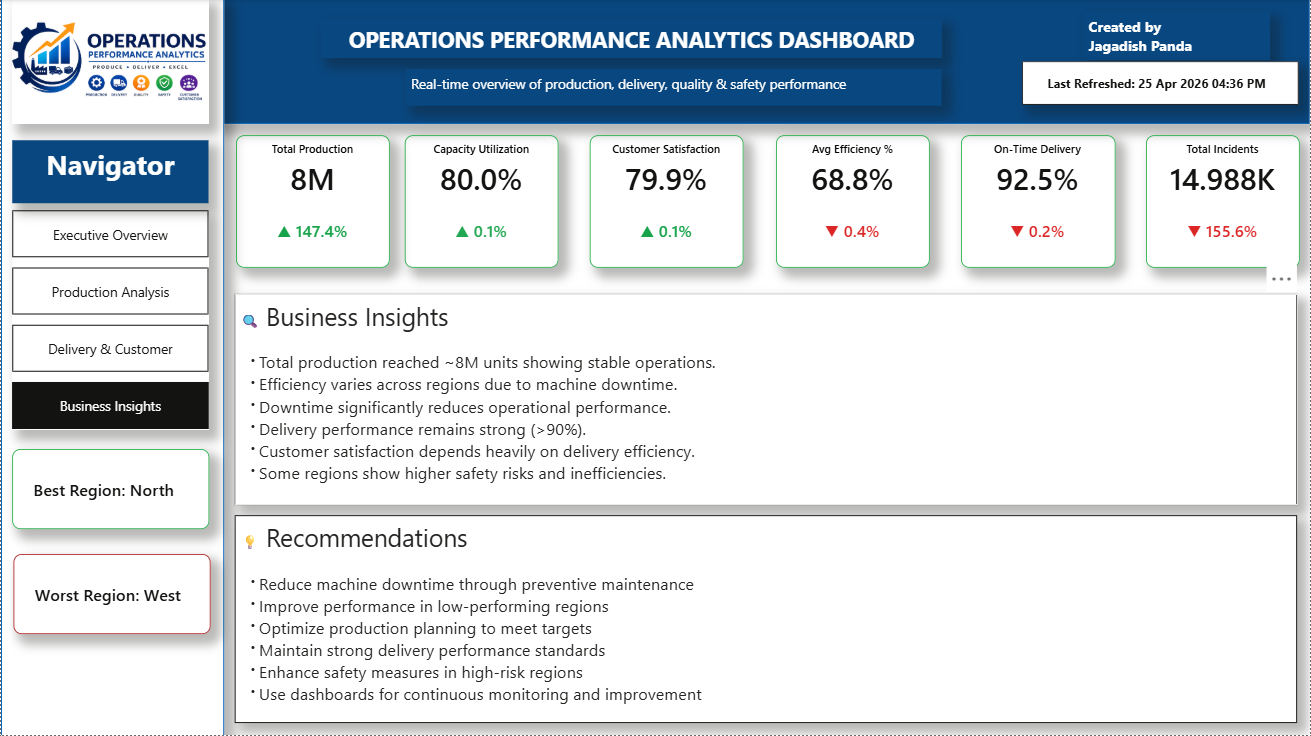

The page's visual inventory and layout, read from the dashboard file:
{"tool":"powerbi","page":{"name":"Business Insights","canvas":[1280,720],"ordinal":3},"visuals":[{"type":"shape","box":[0,0,1280.3,122.2],"z":0},{"type":"shape","box":[0,0,218.4,721.2],"z":1000},{"type":"image","box":[11.3,0,192,122.4],"z":2000},{"type":"textbox","box":[313,20.1,607.5,38.5],"z":3000},{"type":"textbox","box":[1059.4,11.7,182.4,46.9],"z":4000},{"type":"cardVisual","fields":{"Data":["Sheet1.Last Refreshed"]},"box":[999,61.7,270.3,42.5],"z":5000},{"type":"textbox","box":[396.2,68.6,523.7,35.6],"z":6000},{"type":"cardVisual","fields":{"Data":["Sheet1.Capacity Utilization"]},"box":[395.3,133.6,150.6,129.9],"z":7000},{"type":"cardVisual","fields":{"Data":["Sheet1.On-Time Delivery %"]},"box":[939.5,133.4,151,129.4],"z":8000},{"type":"pageNavigator","box":[10.8,206.1,192.2,215.4],"z":9000},{"type":"textbox","box":[10.8,137.9,192.2,62],"z":10000},{"type":"cardVisual","fields":{"Data":["Sheet1.Total Production"]},"box":[229.6,133.6,150.6,129.9],"z":11000},{"type":"cardVisual","fields":{"Data":["Sheet1.Avg Efficiency %"]},"box":[758.6,133.6,150.6,129.9],"z":12000},{"type":"cardVisual","fields":{"Data":["Sheet1.Customer Satisfaction"]},"box":[576,133.6,150.6,129.9],"z":13000},{"type":"cardVisual","fields":{"Data":["Sheet1.Total Incidents"]},"box":[1120,133.6,150.6,129.9],"z":14000},{"type":"textbox","box":[229.2,288.5,1039.3,206.2],"z":15000},{"type":"textbox","box":[229.2,505.5,1039.3,203.5],"z":16000},{"type":"cardVisual","fields":{"Data":["Sheet1.Best Region"]},"box":[10.8,440.8,192.8,78.2],"z":17000},{"type":"cardVisual","fields":{"Data":["Sheet1.Worst Region"]},"box":[12.1,543.2,192.8,78.2],"z":18000}]}

Visuals, with their boxes in screenshot pixels (x1, y1, x2, y2), scaled from the page's 1280x720 canvas onto the 1311x736 screenshot:
shape: pyautogui.locateOnScreen(0, 0, 1310, 125)
shape: pyautogui.locateOnScreen(0, 0, 224, 735)
image: pyautogui.locateOnScreen(12, 0, 208, 125)
textbox: pyautogui.locateOnScreen(321, 21, 943, 60)
textbox: pyautogui.locateOnScreen(1085, 12, 1272, 60)
cardVisual - Sheet1.Last Refreshed: pyautogui.locateOnScreen(1023, 63, 1300, 107)
textbox: pyautogui.locateOnScreen(406, 70, 942, 107)
cardVisual - Sheet1.Capacity Utilization: pyautogui.locateOnScreen(405, 137, 559, 269)
cardVisual - Sheet1.On-Time Delivery %: pyautogui.locateOnScreen(962, 136, 1117, 269)
pageNavigator: pyautogui.locateOnScreen(11, 211, 208, 431)
textbox: pyautogui.locateOnScreen(11, 141, 208, 204)
cardVisual - Sheet1.Total Production: pyautogui.locateOnScreen(235, 137, 389, 269)
cardVisual - Sheet1.Avg Efficiency %: pyautogui.locateOnScreen(777, 137, 931, 269)
cardVisual - Sheet1.Customer Satisfaction: pyautogui.locateOnScreen(590, 137, 744, 269)
cardVisual - Sheet1.Total Incidents: pyautogui.locateOnScreen(1147, 137, 1301, 269)
textbox: pyautogui.locateOnScreen(235, 295, 1299, 506)
textbox: pyautogui.locateOnScreen(235, 517, 1299, 725)
cardVisual - Sheet1.Best Region: pyautogui.locateOnScreen(11, 451, 209, 531)
cardVisual - Sheet1.Worst Region: pyautogui.locateOnScreen(12, 555, 210, 635)
